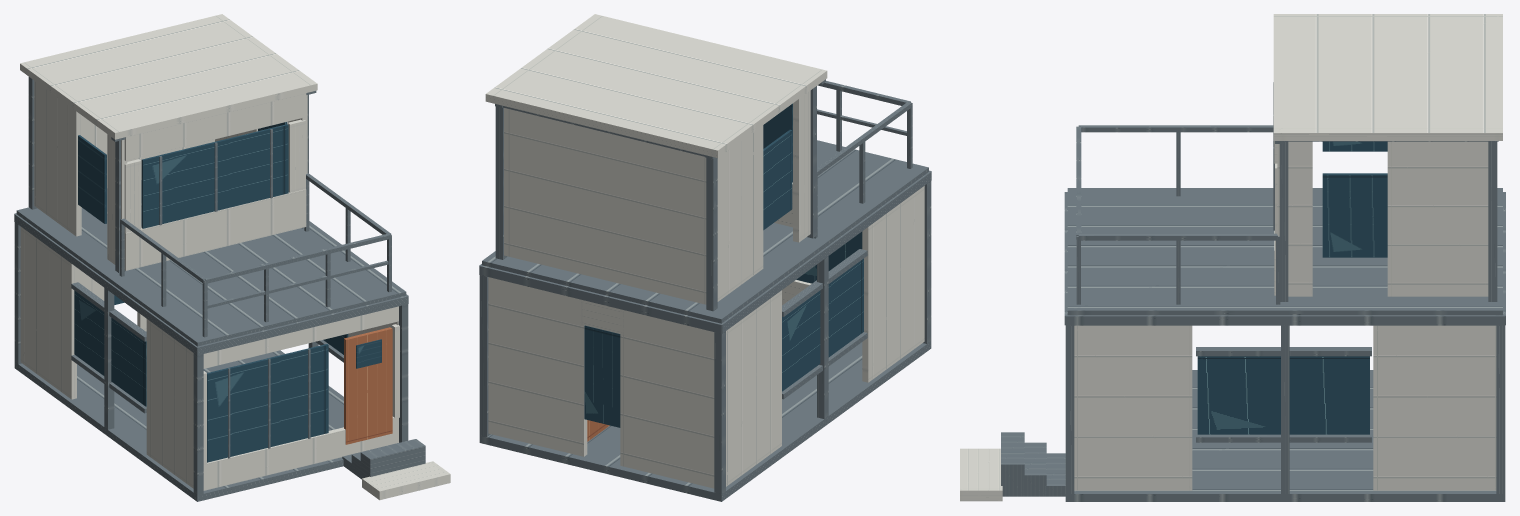
Rendered from TorusHome_ModA.obj.
The picture shows the model from 3 angles, left to right: view 1: azimuth 30°, elevation 25°; view 2: azimuth 150°, elevation 25°; view 3: azimuth 270°, elevation 25°; orthographic projection. The views are drawn at different scales.
Parts seen in each view (by area): view 1: TorusHome_ModA; view 2: TorusHome_ModA; view 3: TorusHome_ModA.
Boxes of the visible parts, x1,y1,x2,y2 form: TorusHome_ModA: (14, 14, 450, 501); TorusHome_ModA: (479, 14, 931, 501); TorusHome_ModA: (960, 14, 1505, 501).
Size of the model in its own units: 1 by 1.38 by 1.86.
Materials: 1 (1 with a texture image).
